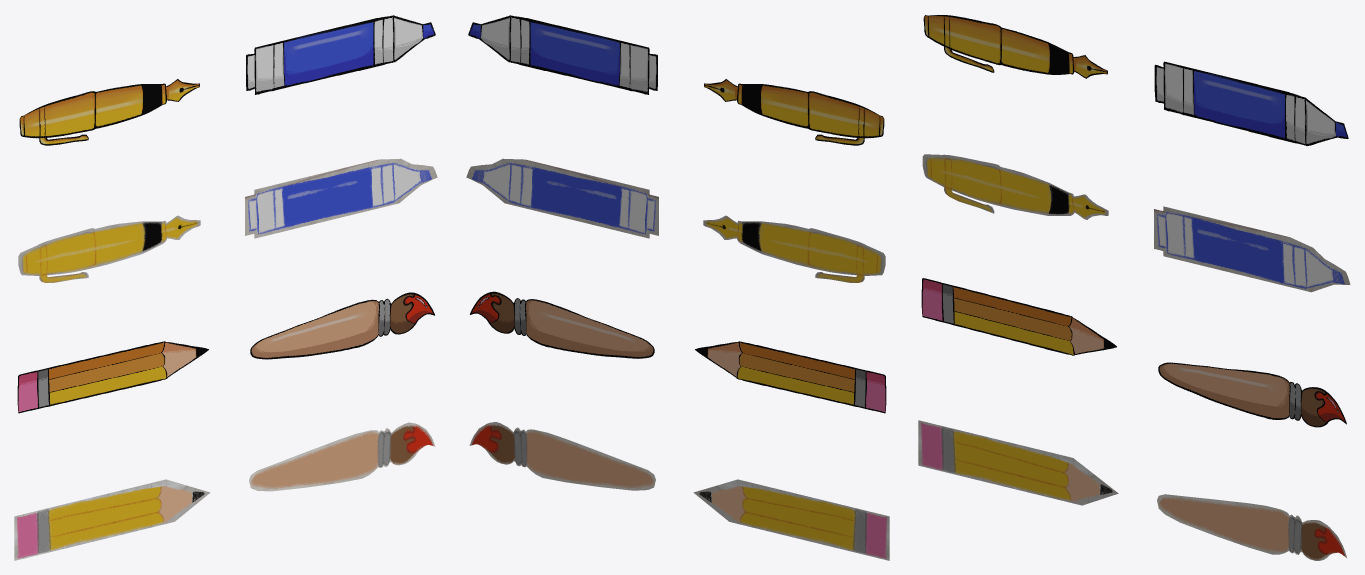
File: Untensil_Weapons.fbx
The picture shows the model from 3 angles, left to right: view 1: azimuth 30°, elevation 25°; view 2: azimuth 150°, elevation 25°; view 3: azimuth 330°, elevation 25°; orthographic projection. The views are drawn at different scales.
Parts seen in each view (by area): view 1: pPlane54, pPlane39, pPlane55, pPlane36, pPlane57, pPlane56, pPlane53, pPlane38; view 2: pPlane54, pPlane39, pPlane55, pPlane36, pPlane57, pPlane56, pPlane53, pPlane38; view 3: pPlane54, pPlane39, pPlane55, pPlane36, pPlane57, pPlane56, pPlane53, pPlane38.
Boxes of the visible parts, x1=… form: pPlane54: x1=245, y1=158, x2=437, y2=238; pPlane39: x1=246, y1=15, x2=435, y2=94; pPlane55: x1=14, y1=479, x2=210, y2=560; pPlane36: x1=17, y1=341, x2=208, y2=413; pPlane57: x1=249, y1=422, x2=435, y2=491; pPlane56: x1=250, y1=292, x2=434, y2=359; pPlane53: x1=18, y1=215, x2=200, y2=282; pPlane38: x1=19, y1=79, x2=199, y2=145; pPlane54: x1=466, y1=158, x2=658, y2=238; pPlane39: x1=468, y1=15, x2=657, y2=94; pPlane55: x1=693, y1=479, x2=889, y2=560; pPlane36: x1=695, y1=341, x2=886, y2=413; pPlane57: x1=469, y1=422, x2=655, y2=490; pPlane56: x1=470, y1=291, x2=654, y2=358; pPlane53: x1=703, y1=215, x2=885, y2=282; pPlane38: x1=704, y1=79, x2=884, y2=145; pPlane54: x1=1154, y1=206, x2=1350, y2=292; pPlane39: x1=1154, y1=61, x2=1348, y2=145; pPlane55: x1=918, y1=420, x2=1118, y2=505; pPlane36: x1=921, y1=278, x2=1116, y2=355; pPlane57: x1=1157, y1=494, x2=1346, y2=560; pPlane56: x1=1158, y1=362, x2=1346, y2=427; pPlane53: x1=922, y1=154, x2=1108, y2=219; pPlane38: x1=923, y1=15, x2=1107, y2=78.
Bounding box in the file's own units: 5.97 × 6.15 × 0.0118.
